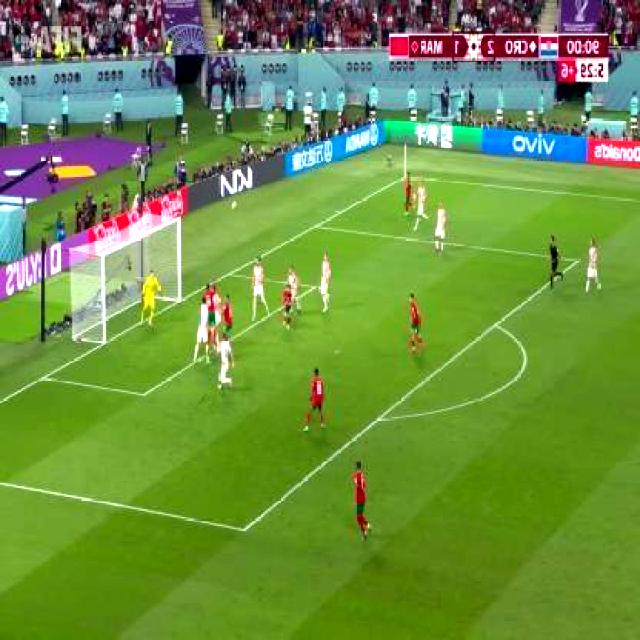bigarea_bottom_inner: (234, 517, 255, 545)
bigarea_top_inner: (569, 251, 585, 271)
bigarea_top_outter: (308, 218, 322, 236)
bottom_arc_area_intersection: (369, 408, 389, 432)
smallarea_bottom_inner: (136, 382, 152, 409)
smallarea_bottom_outter: (35, 366, 51, 391)
smallarea_top_inner: (309, 276, 322, 298)
smallarea_top_outter: (222, 263, 236, 286)
top_arc_area_intersection: (484, 311, 504, 338)
